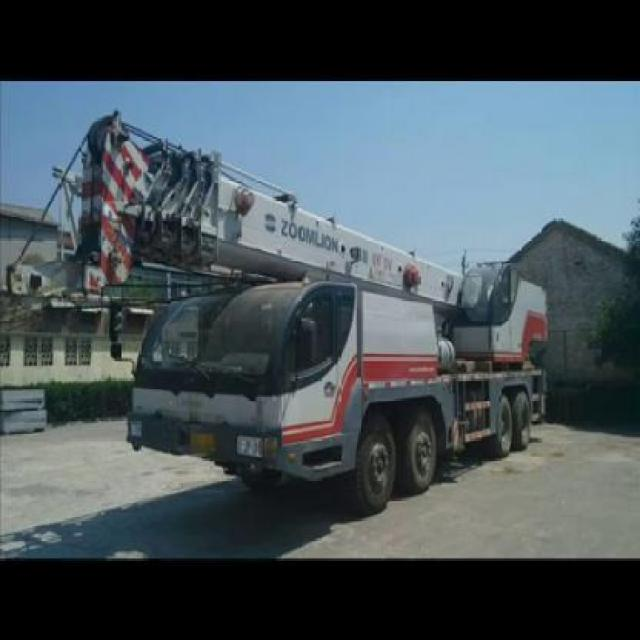Mobile Crane: (64, 112, 547, 503)
